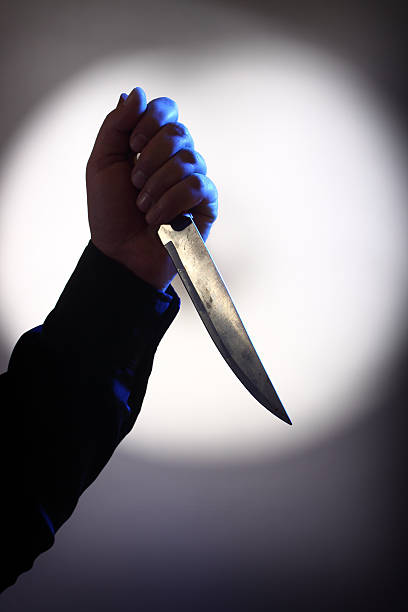knife: (151, 211, 297, 429)
